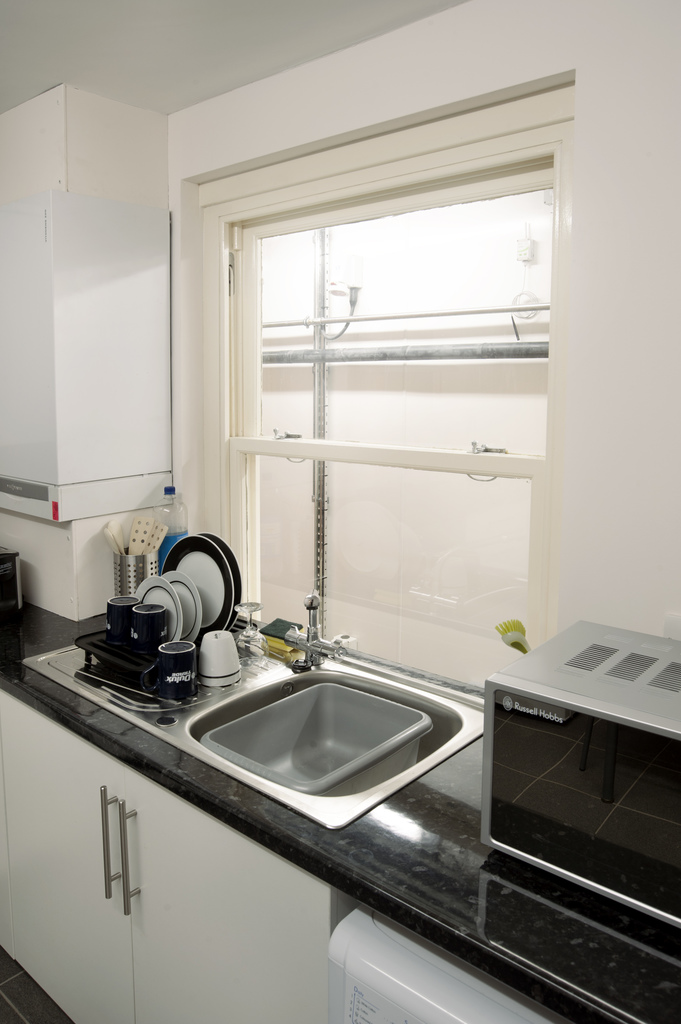tap: (282, 582, 350, 673)
